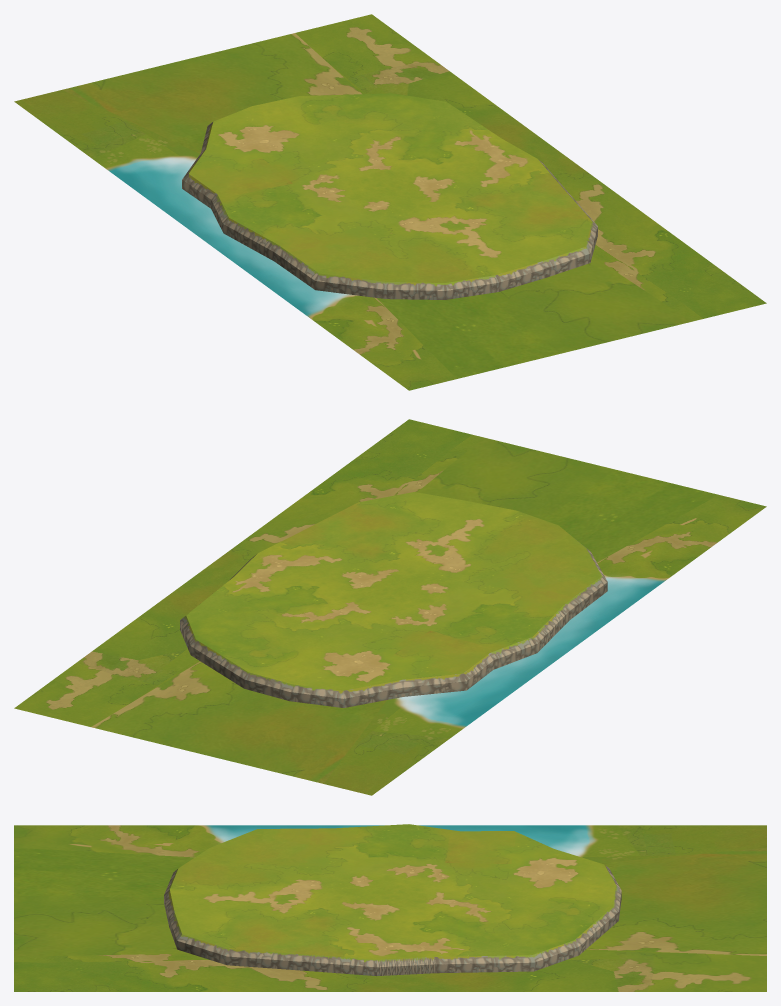
File: 1_10_map.fbx
3 views of the same model, one above another, from view 1: azimuth 30°, elevation 25°; view 2: azimuth 150°, elevation 25°; view 3: azimuth 270°, elevation 25° (orthographic). The views are drawn at different scales.
Parts seen in each view (by area): view 1: map, map_land; view 2: map, map_land; view 3: map, map_land.
Boxes of the visible parts, x1,y1,x2,y2 form: map: (14,14,766,390); map_land: (182,93,597,299); map: (14,419,766,795); map_land: (180,492,607,707); map: (14,825,766,991); map_land: (164,824,621,976).
Bounding box in the file's own units: 42.26 × 2.03 × 80.81.
